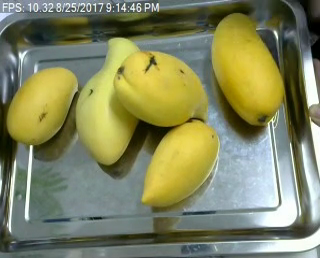Mango: (72, 35, 147, 168), (212, 9, 284, 127), (112, 48, 212, 128), (135, 119, 221, 206), (5, 64, 78, 145)
